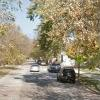Car: (46, 59, 84, 86)
